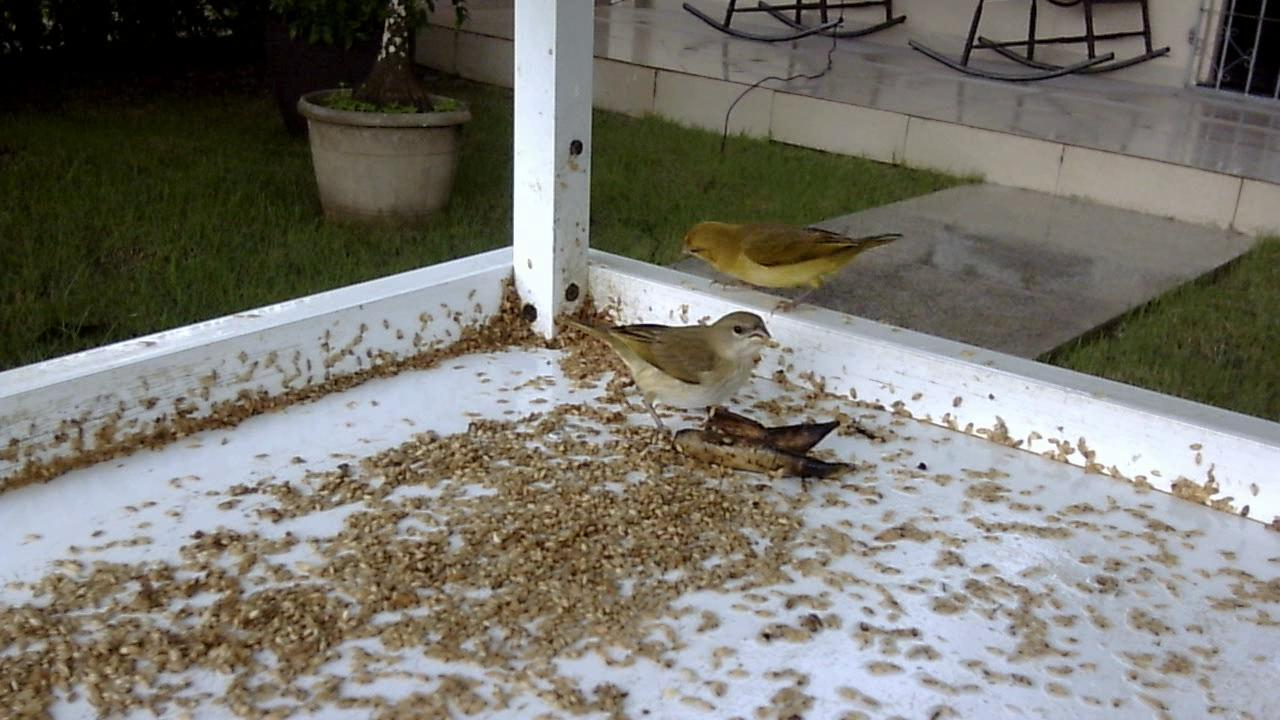canario_do_amazonas: (556, 305, 781, 450), (673, 207, 914, 327)
